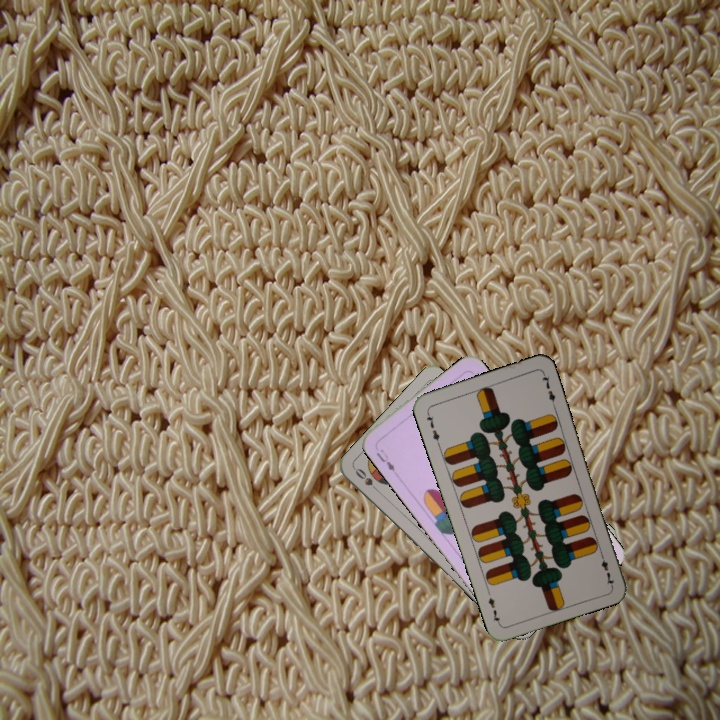E7: (596, 548, 617, 588), (422, 408, 442, 447)
EU: (373, 445, 398, 474)
SO: (351, 464, 384, 496)
